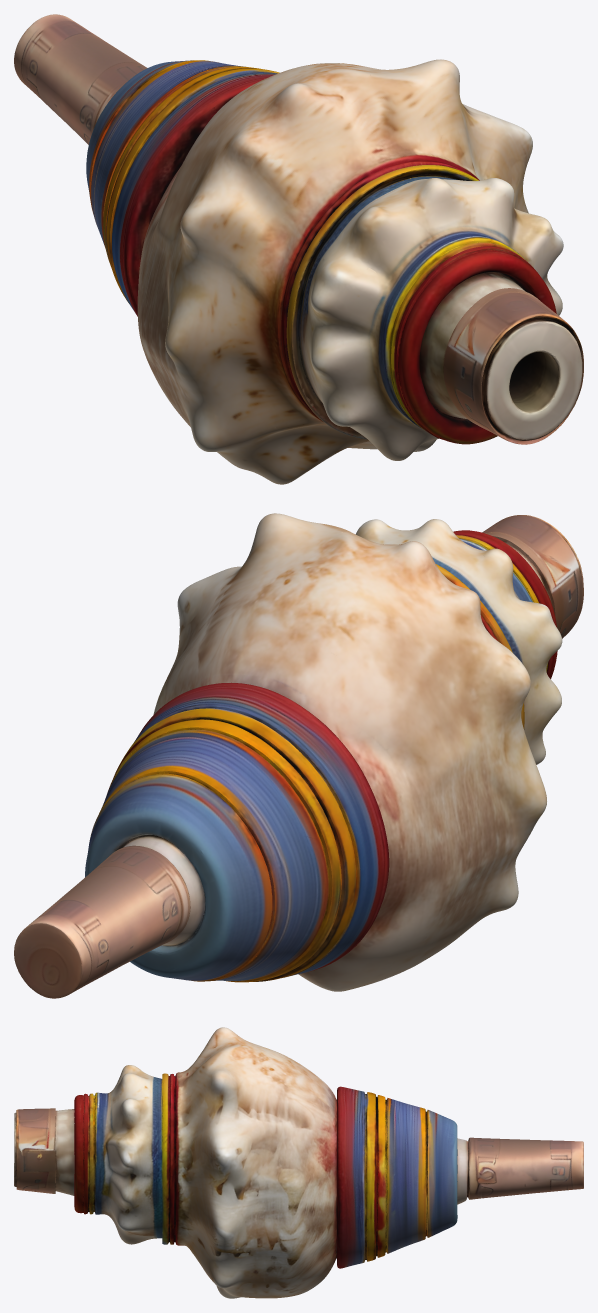
Rendered from Pututu_Concha de caracol.glb.
3 renders of one model, top to bottom at view 1: azimuth 30°, elevation 25°; view 2: azimuth 150°, elevation 25°; view 3: azimuth 270°, elevation 25°, orthographic. The views are drawn at different scales.
Visible parts, largest first — view 1: Pututu_Concha de caracol; view 2: Pututu_Concha de caracol; view 3: Pututu_Concha de caracol.
Part boxes in pixels (left/top/right/bottom): Pututu_Concha de caracol: left=14, top=14, right=583, bottom=484; Pututu_Concha de caracol: left=14, top=513, right=583, bottom=998; Pututu_Concha de caracol: left=14, top=1027, right=583, bottom=1298.
Size of the model in its own units: 0.7914 by 0.8123 by 1.75.
1 material, 1 textured.
